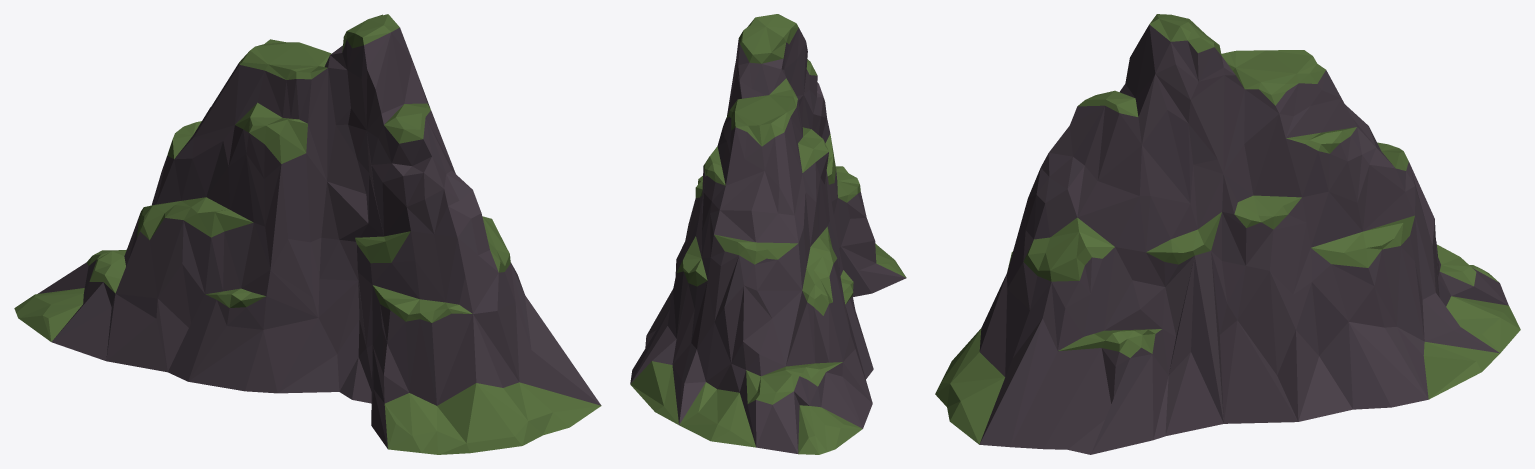
Rendered from Mountain_3_2 Asia.fbx.
The picture shows the model from 3 angles, left to right: view 1: azimuth 30°, elevation 25°; view 2: azimuth 150°, elevation 25°; view 3: azimuth 270°, elevation 25°; orthographic projection. The views are drawn at different scales.
Visible parts, largest first — view 1: Mountain_3_2; view 2: Mountain_3_2; view 3: Mountain_3_2.
Part boxes in pixels (<box>): Mountain_3_2: <box>14,14,601,454</box>; Mountain_3_2: <box>630,14,906,454</box>; Mountain_3_2: <box>935,14,1520,454</box>.
Bounding box in the file's own units: 27.63 × 25.03 × 36.89.
